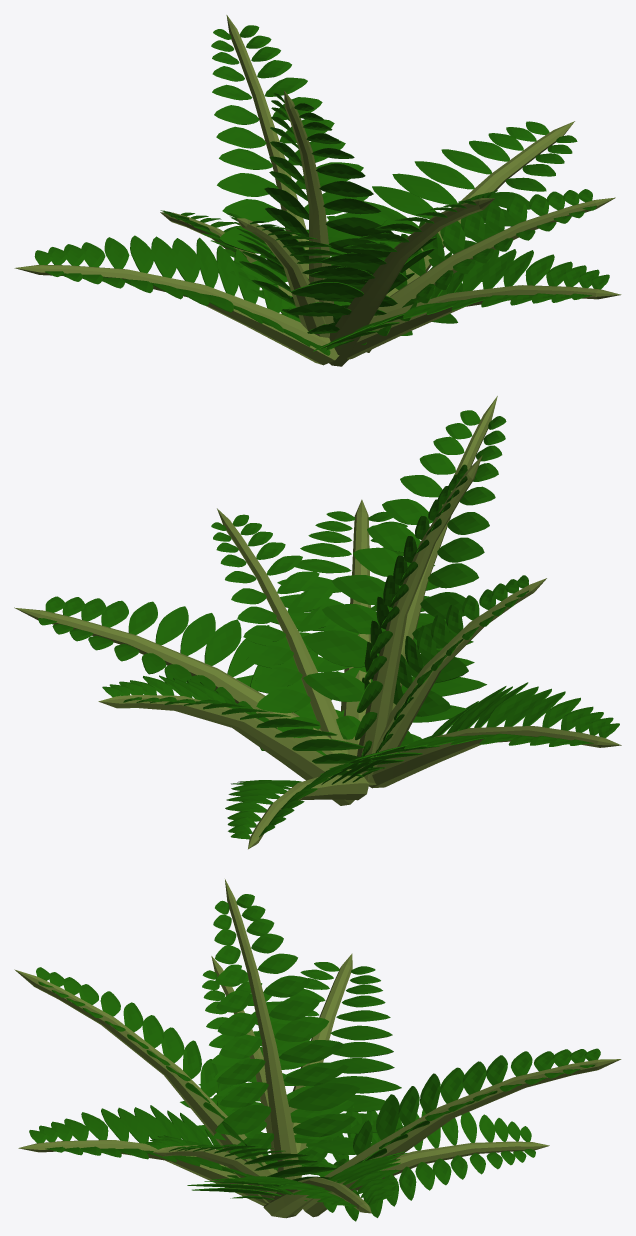
File: bush.fbx
3 renders of one model, top to bottom at view 1: azimuth 30°, elevation 25°; view 2: azimuth 150°, elevation 25°; view 3: azimuth 270°, elevation 25°, orthographic. The views are drawn at different scales.
Parts seen in each view (by area): view 1: bush_1_branch_pCylinder2; view 2: bush_1_branch_pCylinder2; view 3: bush_1_branch_pCylinder2.
Boxes of the visible parts, left/top/right/bottom form: bush_1_branch_pCylinder2: left=14, top=15, right=621, bottom=366; bush_1_branch_pCylinder2: left=14, top=396, right=621, bottom=849; bush_1_branch_pCylinder2: left=14, top=879, right=621, bottom=1221.
Size of the model in its own units: 16.67 by 8.93 by 16.46.
